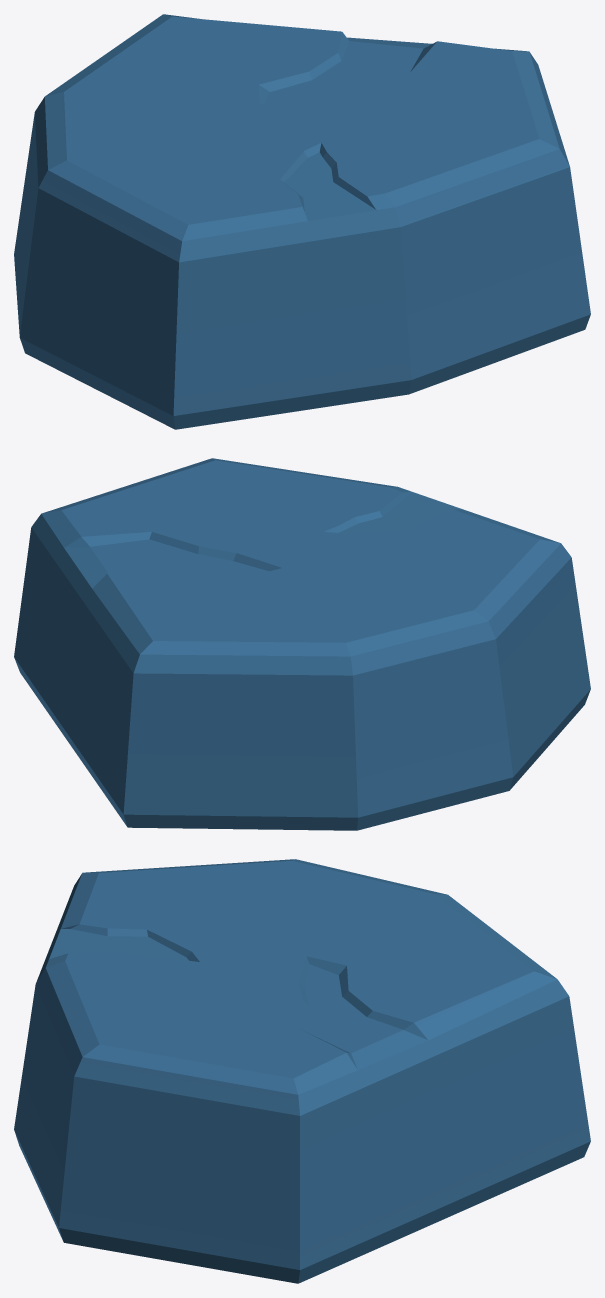
The model's file is SM_IceRock1.fbx.
3 views of the same model, one above another, from view 1: azimuth 30°, elevation 25°; view 2: azimuth 150°, elevation 25°; view 3: azimuth 270°, elevation 25° (orthographic). The views are drawn at different scales.
Parts seen in each view (by area): view 1: SM_IceRock1; view 2: SM_IceRock1; view 3: SM_IceRock1.
Part boxes in pixels (x1,y1,x2,y2): SM_IceRock1: (14,14,590,429); SM_IceRock1: (14,458,590,830); SM_IceRock1: (14,859,590,1283).
Bounding box in the file's own units: 181 × 62 × 167.
